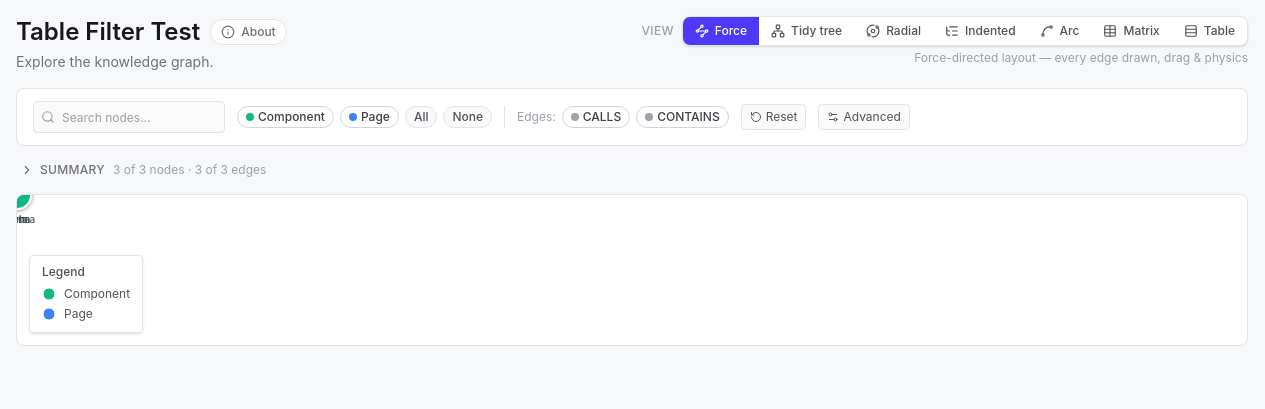
Test: Viewer table view filtering › toggling a node type pill off removes its rows and drops a surviving row's degree
Click the button "Table" at [1209, 31], box left=1172, top=17, right=1247, bottom=45
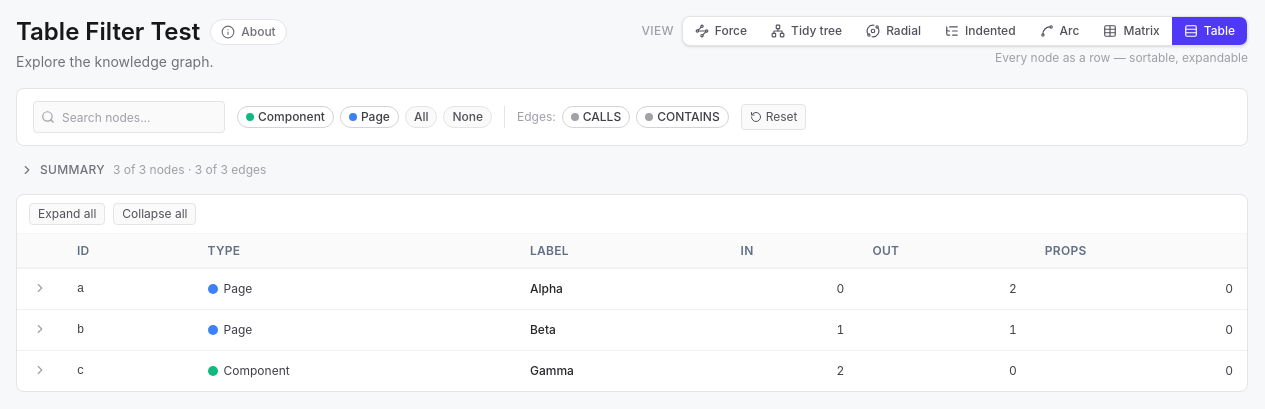
Now the row with test id "table-row-a" is shown, box left=17, top=268, right=1247, bottom=310
Now the row with test id "table-row-b" is shown, box left=17, top=310, right=1247, bottom=351
Now the row with test id "table-row-c" is shown, box left=17, top=351, right=1247, bottom=391
Click the button "Component" at [286, 117], box left=237, top=106, right=334, bottom=128
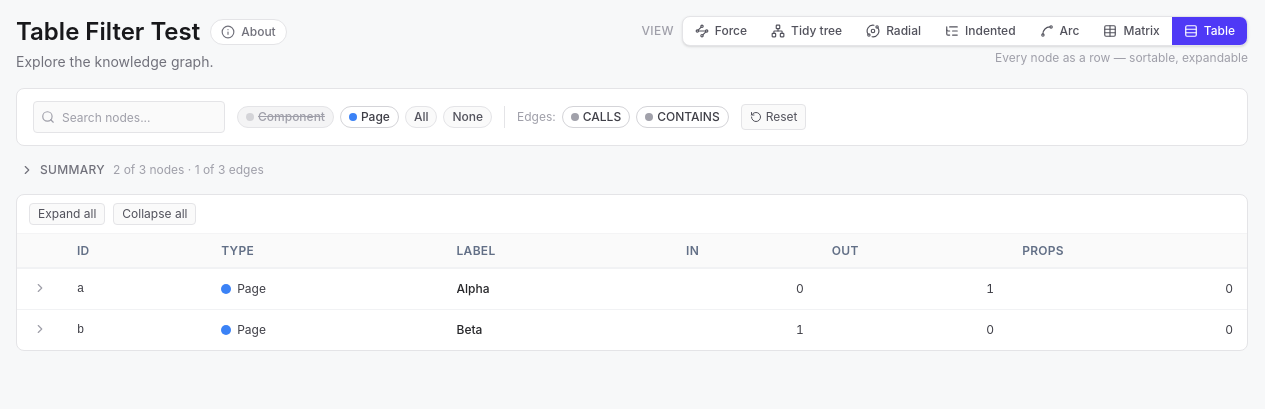
Now the row with test id "table-row-a" is shown, box left=17, top=268, right=1247, bottom=310
Now the row with test id "table-row-b" is shown, box left=17, top=310, right=1247, bottom=350
Now the row with test id "table-row-c" is gone
